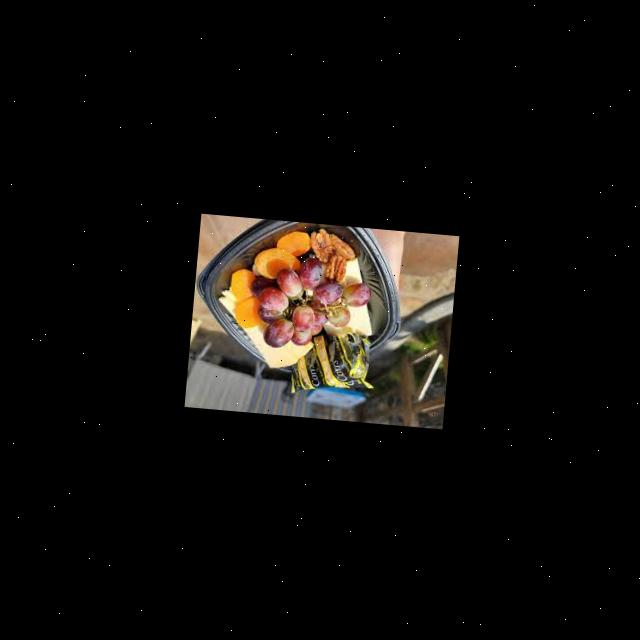grape: (244, 250, 373, 355)
